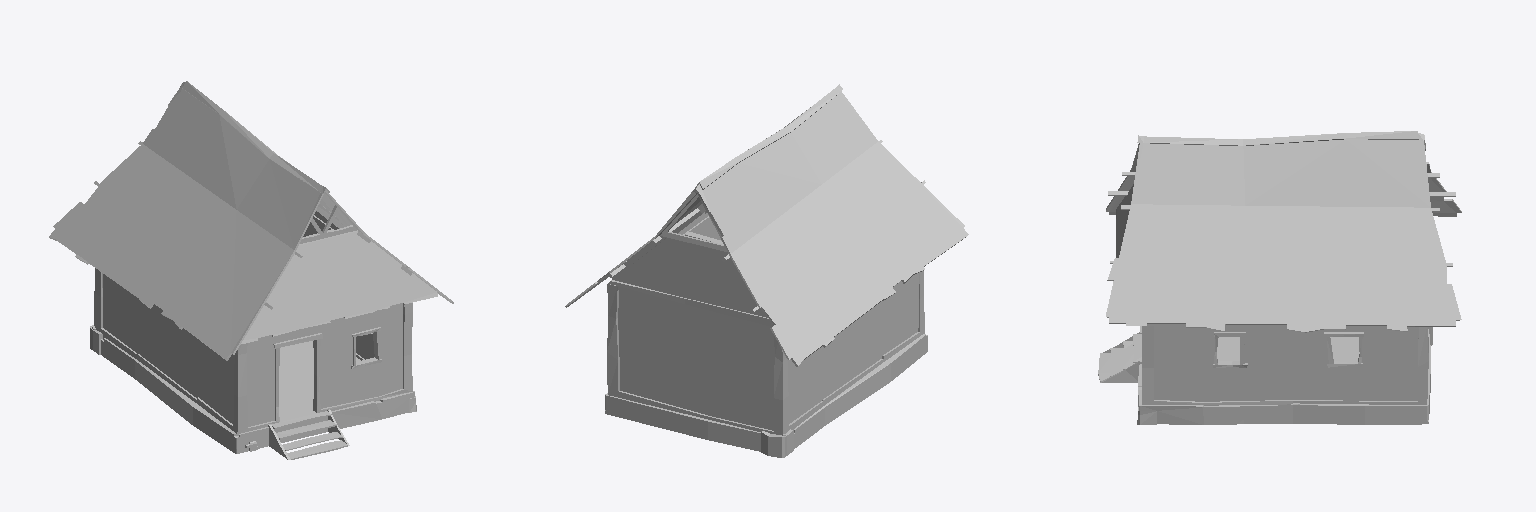
Rendered from Wooden_Cabin.obj.
3 renders of one model, left to right at view 1: azimuth 30°, elevation 25°; view 2: azimuth 150°, elevation 25°; view 3: azimuth 270°, elevation 25°, orthographic.
Visible parts, largest first — view 1: Roof_roof, WoodCabin; view 2: Roof_roof, WoodCabin; view 3: Roof_roof, WoodCabin.
Boxes of the visible parts, <box> form: Roof_roof: <box>49,81,453,360</box>; WoodCabin: <box>90,212,416,459</box>; Roof_roof: <box>565,84,968,366</box>; WoodCabin: <box>605,213,927,457</box>; Roof_roof: <box>1106,131,1461,332</box>; WoodCabin: <box>1098,324,1432,424</box>.
Bounding box in the file's own units: 9.99 × 10.01 × 13.19.